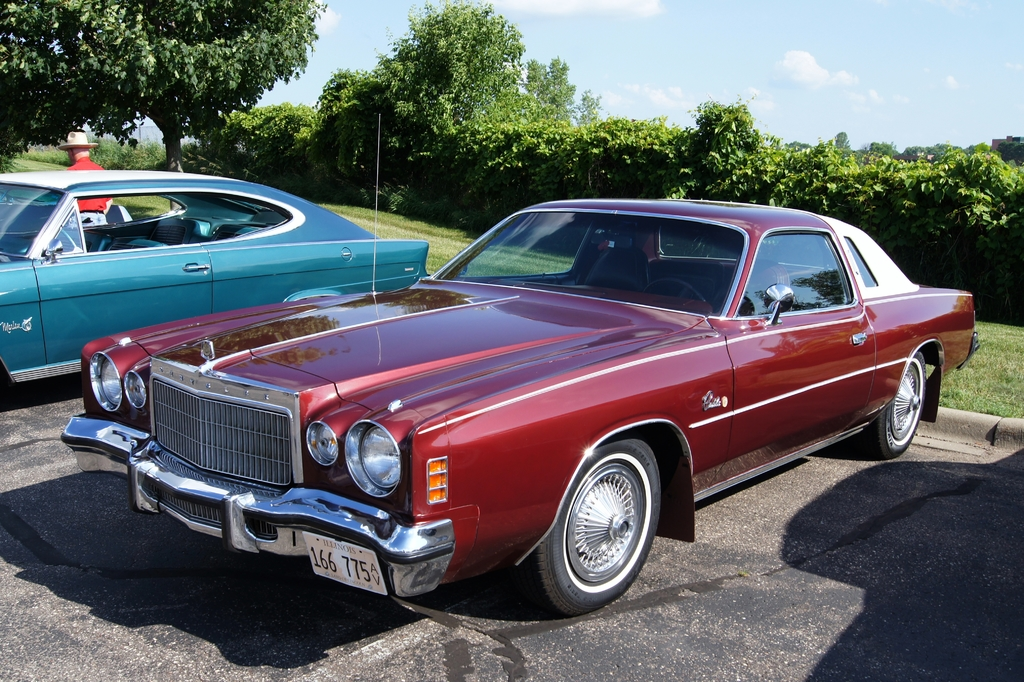Car: (83, 208, 935, 616), (0, 169, 429, 384)
